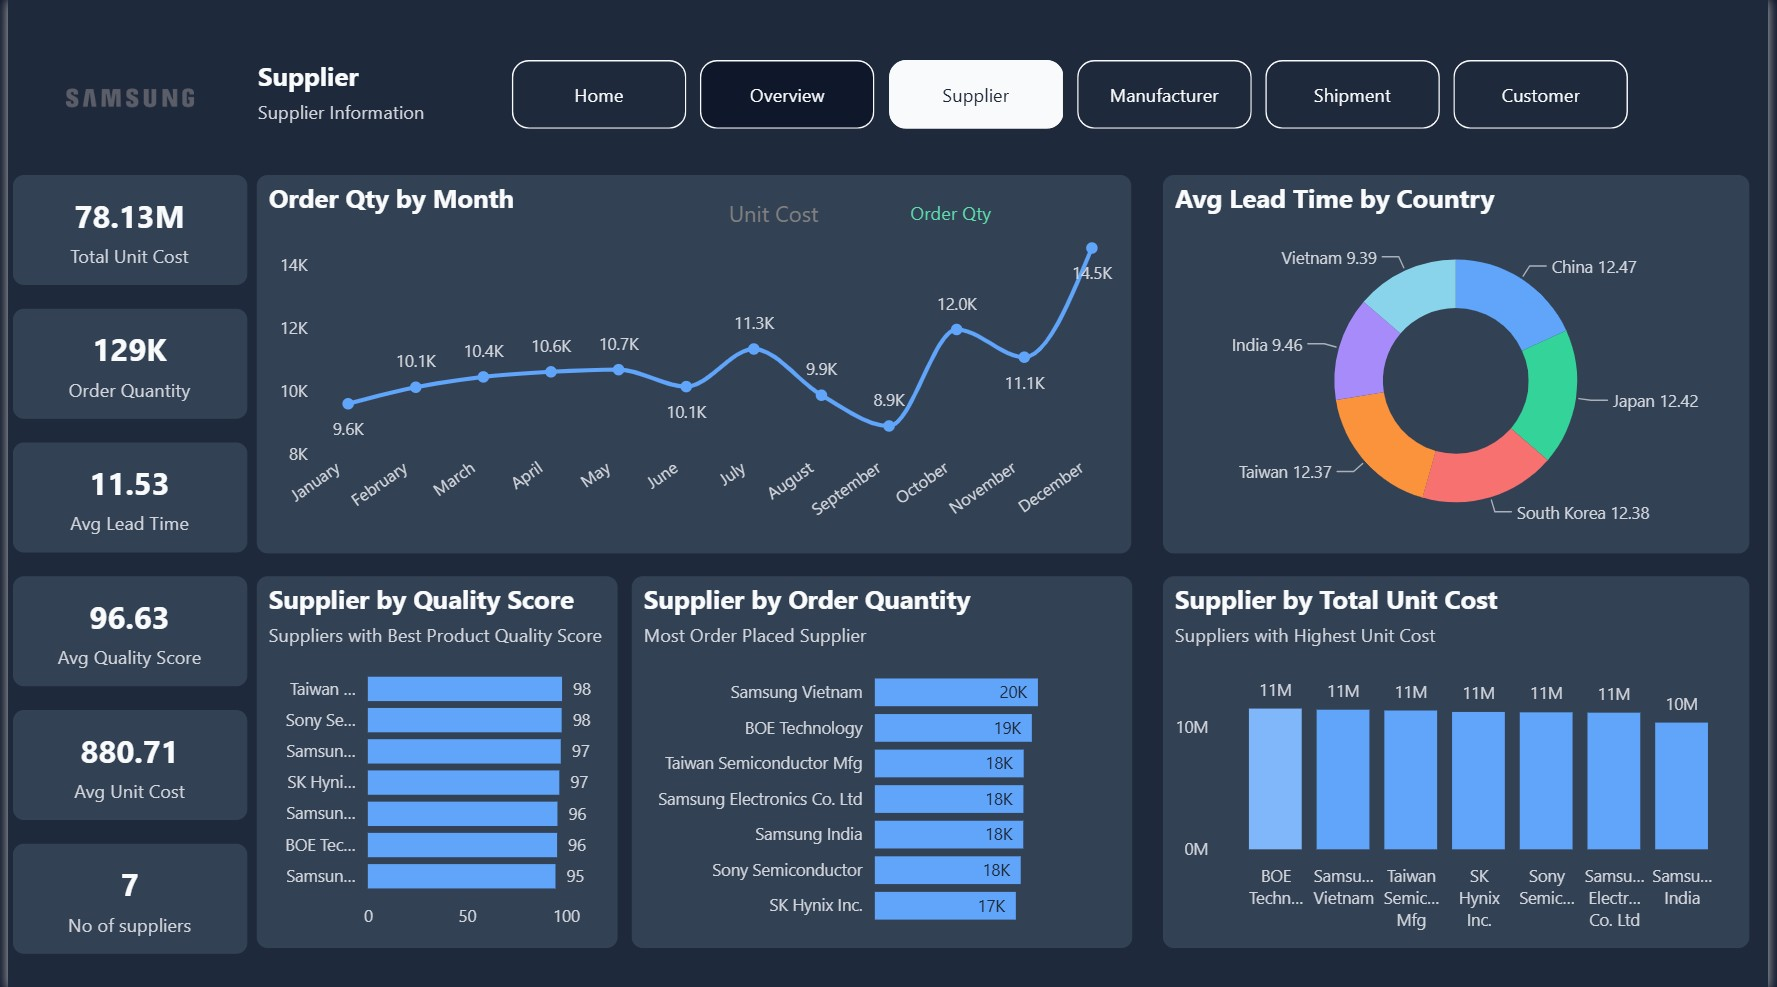

What the dashboard file says about the page in this screenshot:
{"tool":"powerbi","page":{"name":"Supplier","canvas":[1280,720],"ordinal":2},"visuals":[{"type":"image","box":[16.7,0,144.4,142.2],"z":0},{"type":"lineChart","fields":{"Y":["calculated_tbl.order_qty"],"Category":["dim_date.date.Variation.Date Hierarchy.Month"]},"box":[181.2,127.5,636.2,275],"z":0,"group":"g1"},{"type":"advancedSlicerVisual","fields":{"Values":["Cost_qty_supplier.Cost_qty_supplier"]},"box":[507.4,127.5,265,55],"z":1000,"group":"g1"},{"type":"card","fields":{"Values":["calculated_tbl.order_qty"]},"box":[3.8,224.8,170,80],"z":1000},{"type":"card","fields":{"Values":["calculated_tbl.Avg_lead_time"]},"box":[3.8,322,170,80],"z":2000},{"type":"card","fields":{"Values":["calculated_tbl.Avg_Quality_Score"]},"box":[3.8,419.2,170,80],"z":3000},{"type":"card","fields":{"Values":["calculated_tbl.Avg_unit_cost"]},"box":[3.8,516.5,170,80],"z":4000},{"type":"card","fields":{"Values":["calculated_tbl.Total_Unit_Cost"]},"box":[3.8,127.5,170,80],"z":5000},{"type":"card","fields":{"Values":["CountNonNull(dim_supplier.supplier_id)"]},"box":[3.8,613.8,170,80],"z":6000},{"type":"clusteredBarChart","title":"Supplier by Quality Score","fields":{"Category":["dim_supplier.supplier_name"],"Y":["calculated_tbl.Avg_Quality_Score"]},"box":[181.1,418.9,262.2,270],"z":7000},{"type":"clusteredBarChart","title":"Supplier by Order Quantity","fields":{"Category":["dim_supplier.supplier_name"],"Y":["calculated_tbl.order_qty"]},"box":[453.8,418.8,363.8,270],"z":8000},{"type":"columnChart","title":"Supplier by Total Unit Cost","fields":{"Category":["dim_supplier.supplier_name"],"Y":["calculated_tbl.Total_Unit_Cost"]},"box":[840,418.8,426.2,270],"z":9000},{"type":"group","id":"g1","title":"Group 1","box":[181.2,127.5,636.2,275],"z":10000},{"type":"donutChart","title":"Avg Lead Time by Country","fields":{"Category":["dim_supplier.country"],"Y":["calculated_tbl.Avg_lead_time"]},"box":[840,127.5,426.2,275],"z":11000},{"type":"shape","title":"Supplier","box":[181.4,42.9,184.3,57.1],"z":12000},{"type":"pageNavigator","box":[366.5,43.3,813.7,50.5],"z":12001}]}

Visuals, with their boxes in screenshot pixels (x1, y1, x2, y2), scaled from the page's 1280x720 canvas onto the 1777x987 screenshot:
image: [x1=23, y1=0, x2=224, y2=195]
lineChart - calculated_tbl.order_qty x dim_date.date.Variation.Date Hierarchy.Month: [x1=252, y1=175, x2=1135, y2=552]
advancedSlicerVisual - Cost_qty_supplier.Cost_qty_supplier: [x1=704, y1=175, x2=1072, y2=250]
card - calculated_tbl.order_qty: [x1=5, y1=308, x2=241, y2=418]
card - calculated_tbl.Avg_lead_time: [x1=5, y1=441, x2=241, y2=551]
card - calculated_tbl.Avg_Quality_Score: [x1=5, y1=575, x2=241, y2=684]
card - calculated_tbl.Avg_unit_cost: [x1=5, y1=708, x2=241, y2=818]
card - calculated_tbl.Total_Unit_Cost: [x1=5, y1=175, x2=241, y2=284]
card - CountNonNull(dim_supplier.supplier_id): [x1=5, y1=841, x2=241, y2=951]
"Supplier by Quality Score" clusteredBarChart: [x1=251, y1=574, x2=615, y2=944]
"Supplier by Order Quantity" clusteredBarChart: [x1=630, y1=574, x2=1135, y2=944]
"Supplier by Total Unit Cost" columnChart: [x1=1166, y1=574, x2=1758, y2=944]
"Group 1" group: [x1=252, y1=175, x2=1135, y2=552]
"Avg Lead Time by Country" donutChart: [x1=1166, y1=175, x2=1758, y2=552]
"Supplier" shape: [x1=252, y1=59, x2=508, y2=137]
pageNavigator: [x1=509, y1=59, x2=1638, y2=129]
